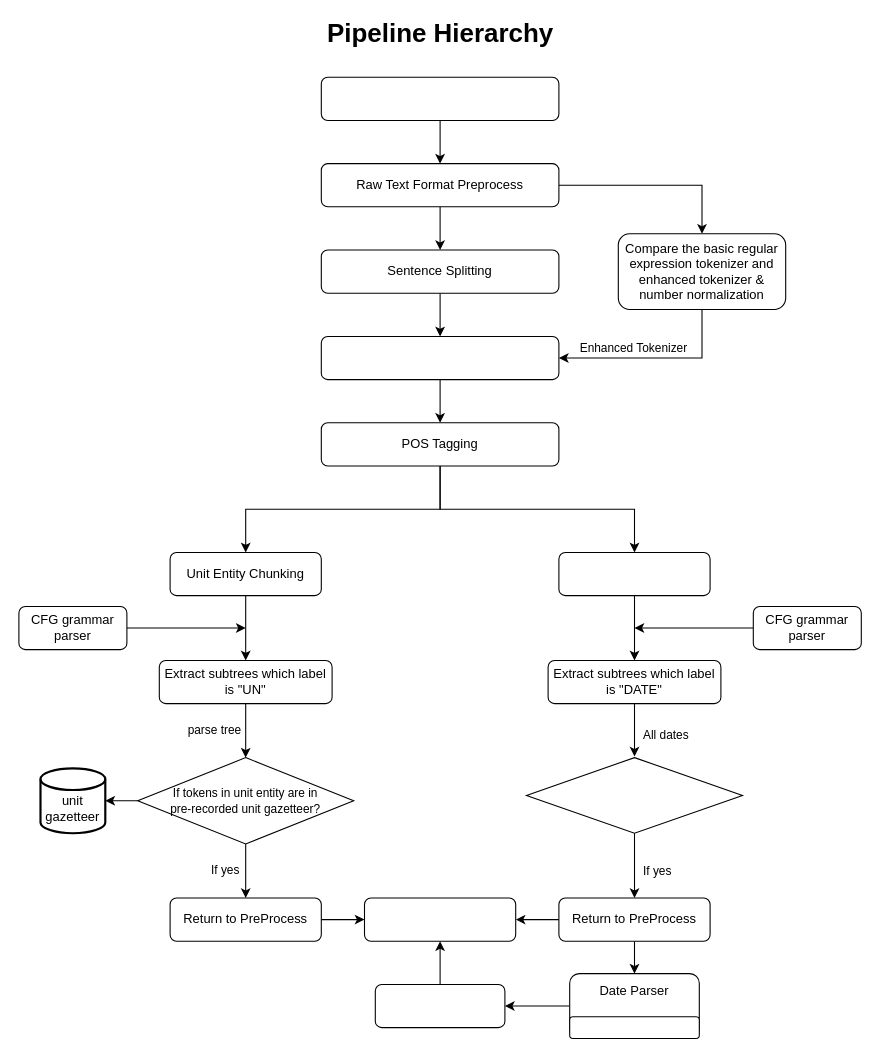
Some shapes in this 880 by 1057 pixel diagram are drawn without their labels. Each missing label, with the centre of its shape:
"CFG grammar" goes at pixel 634 1027.
"Check if date satisfies date_pattern?" goes at pixel 633 795.
"Date Parse Tree" goes at pixel 439 1005.
"Date Recognition" goes at pixel 634 573.
"Output/Draw on console" goes at pixel 439 919.
"Raw Text Retrieval From nltk.corpus" goes at pixel 439 98.
"Word Tokenization" goes at pixel 439 357.
